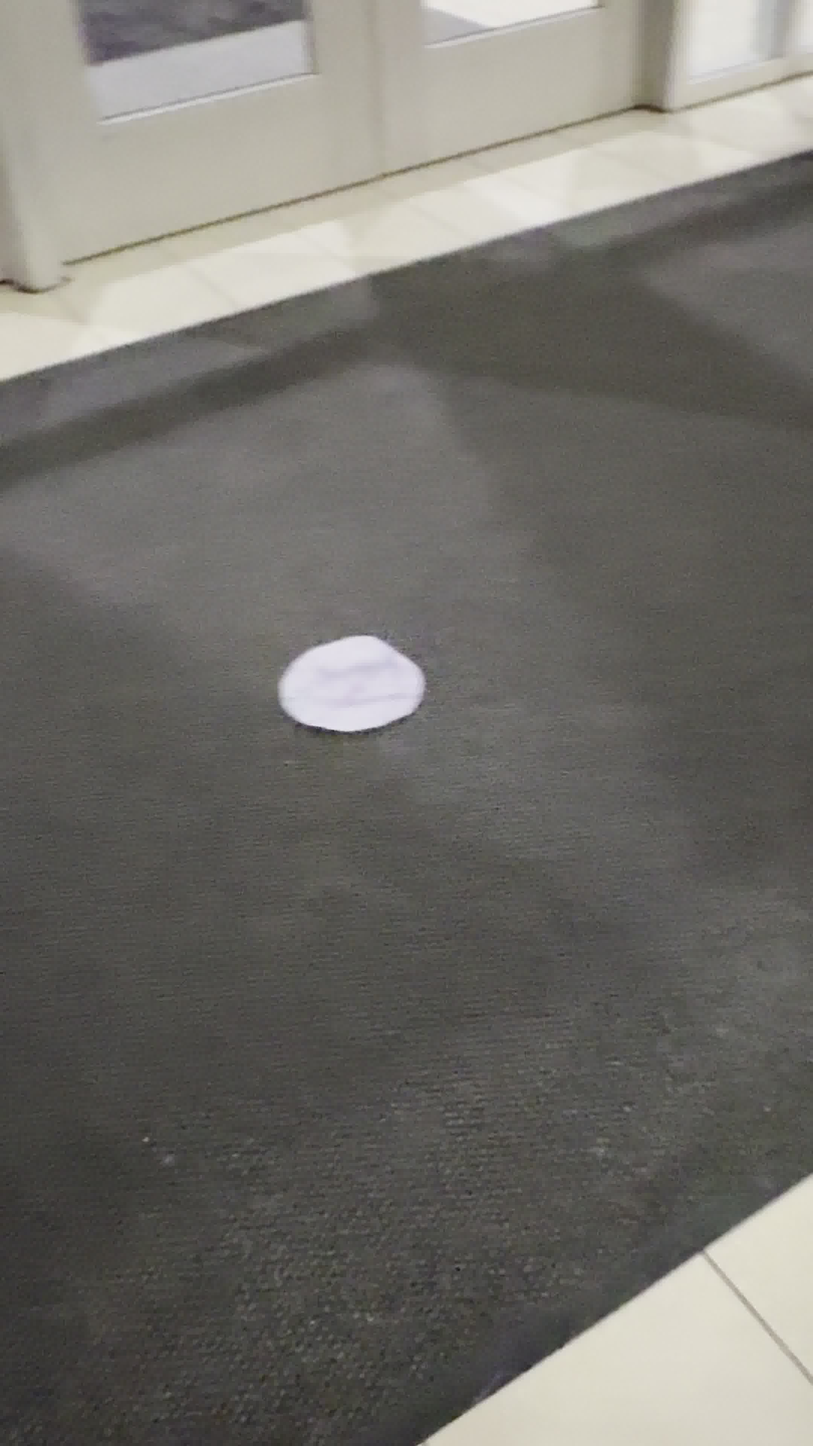Target: (276, 634, 426, 733)
